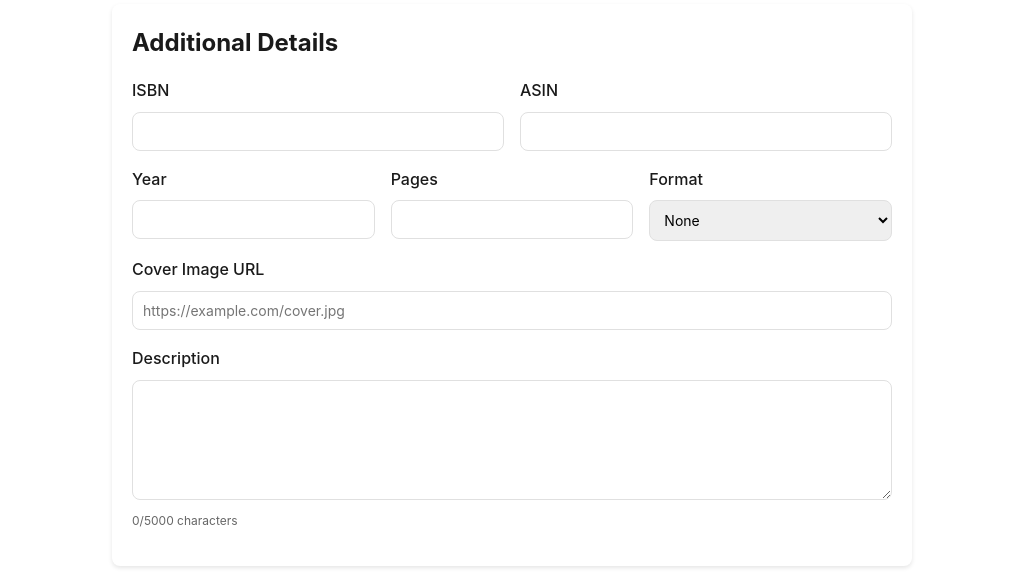
Test: AddBook › should clear errors when user types in field
(page scrolled)
Submit the form named "Add Book"
(page scrolled)
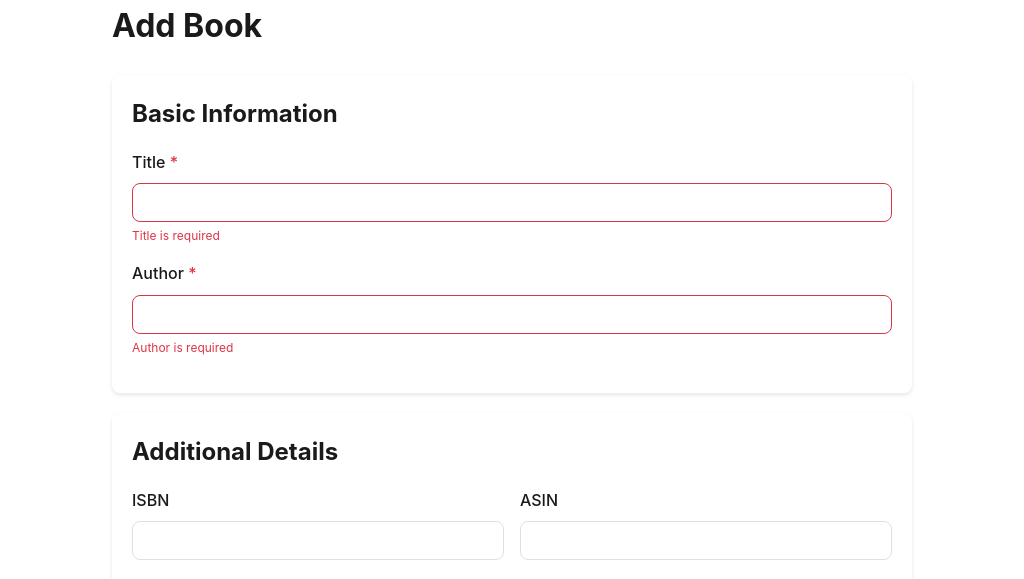
Check: the text "Title is required" is shown, box [132,228,220,243]
In the field labelled "Title *": (512, 203) [132,183,892,222], type "Test Book"
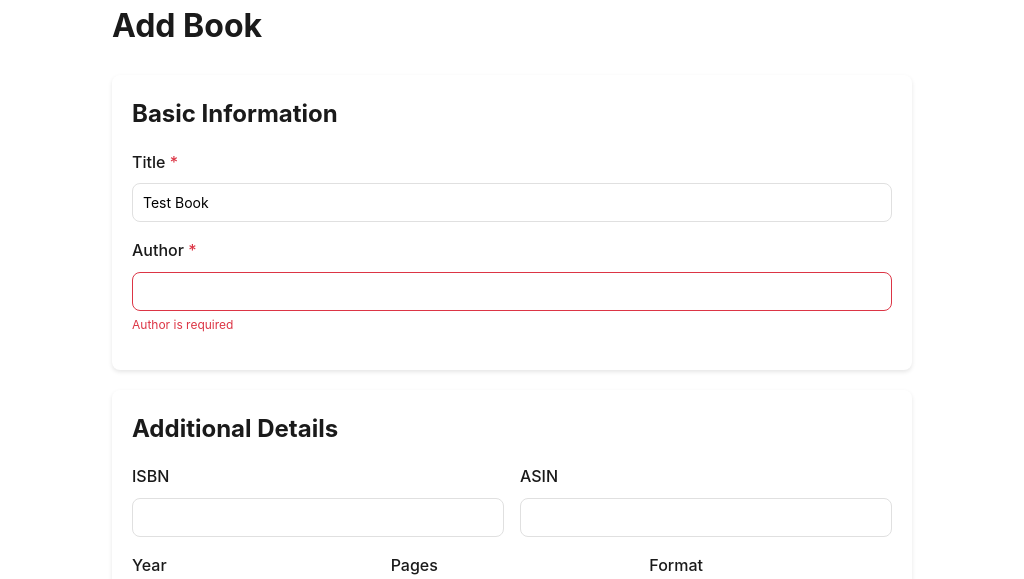
Check: the text "Title is required" is gone
